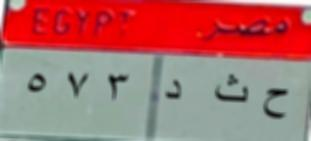3: (106, 70, 133, 104)
5: (25, 69, 50, 97)
7: (65, 69, 89, 102)
7aa: (260, 85, 291, 129)
daal: (164, 79, 184, 108)
thaa: (213, 72, 251, 110)
